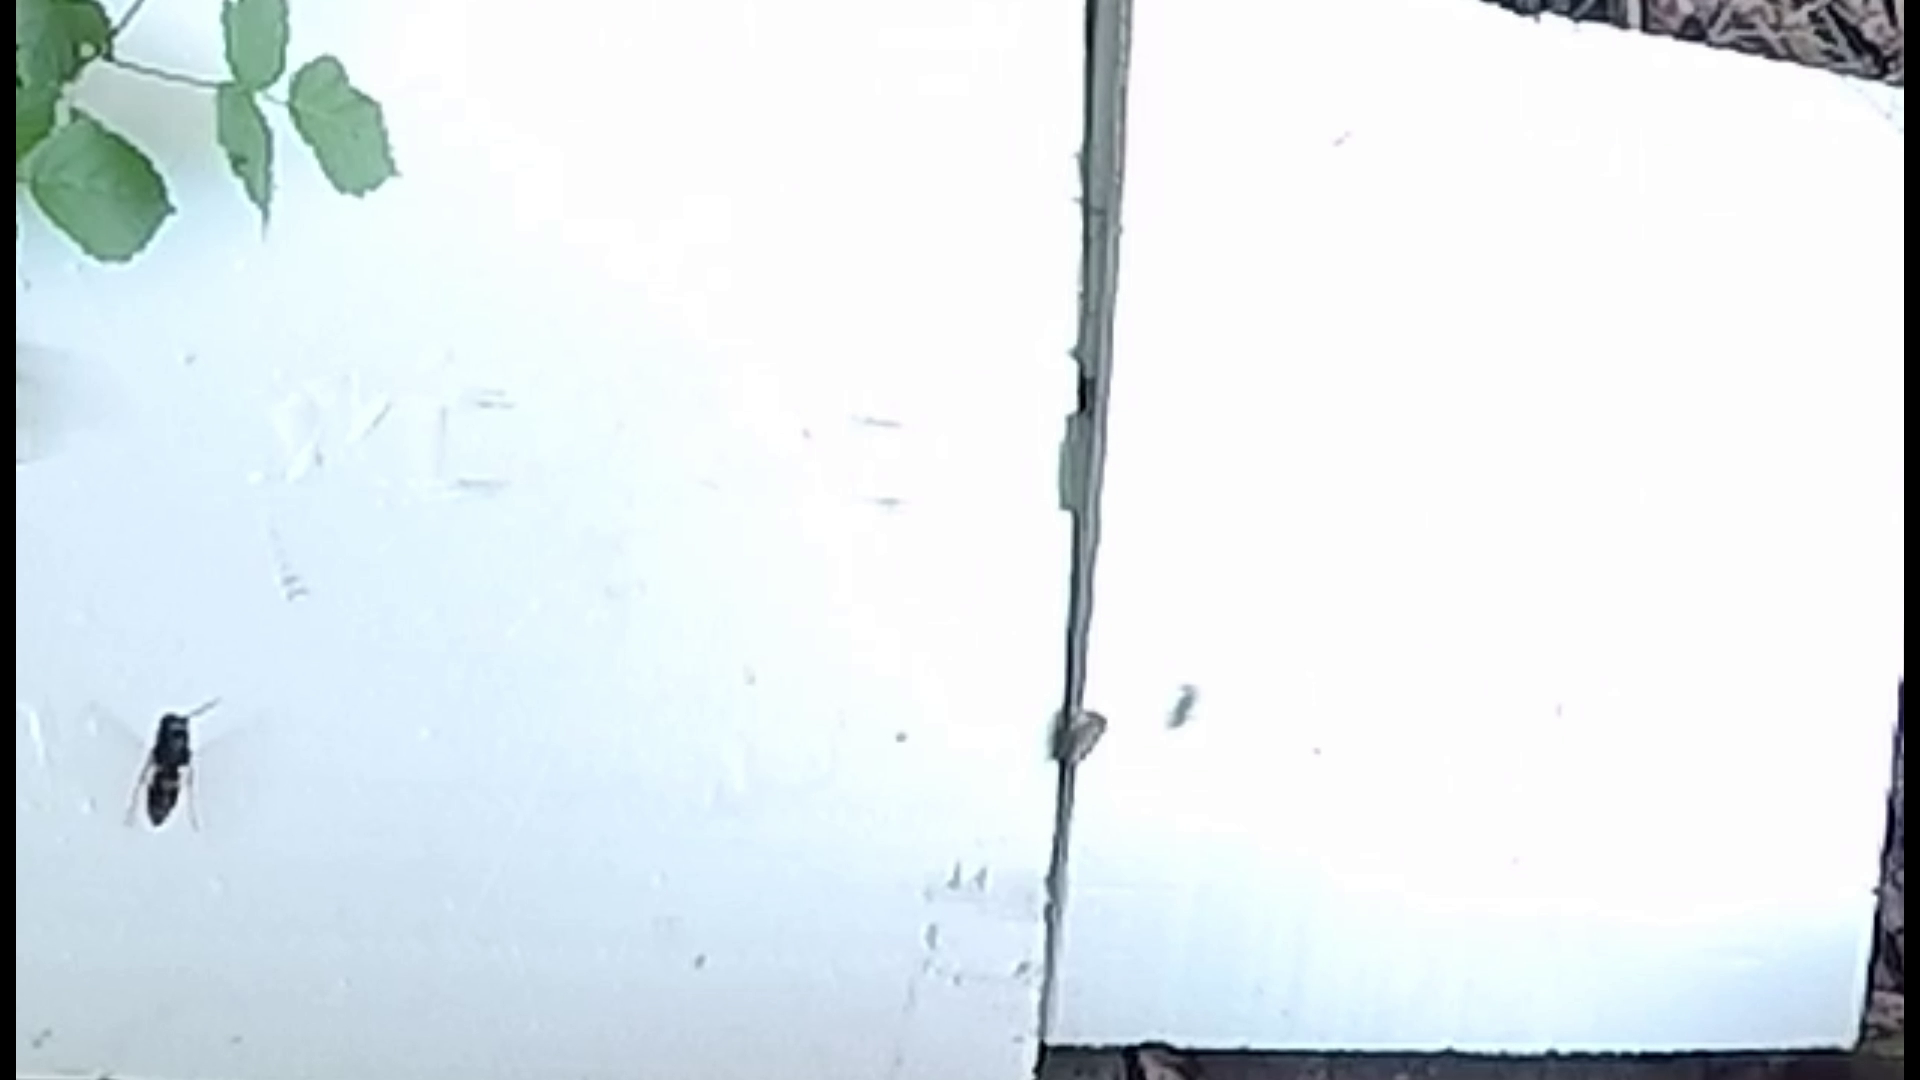Asian_hornets: (86, 674, 251, 844)
